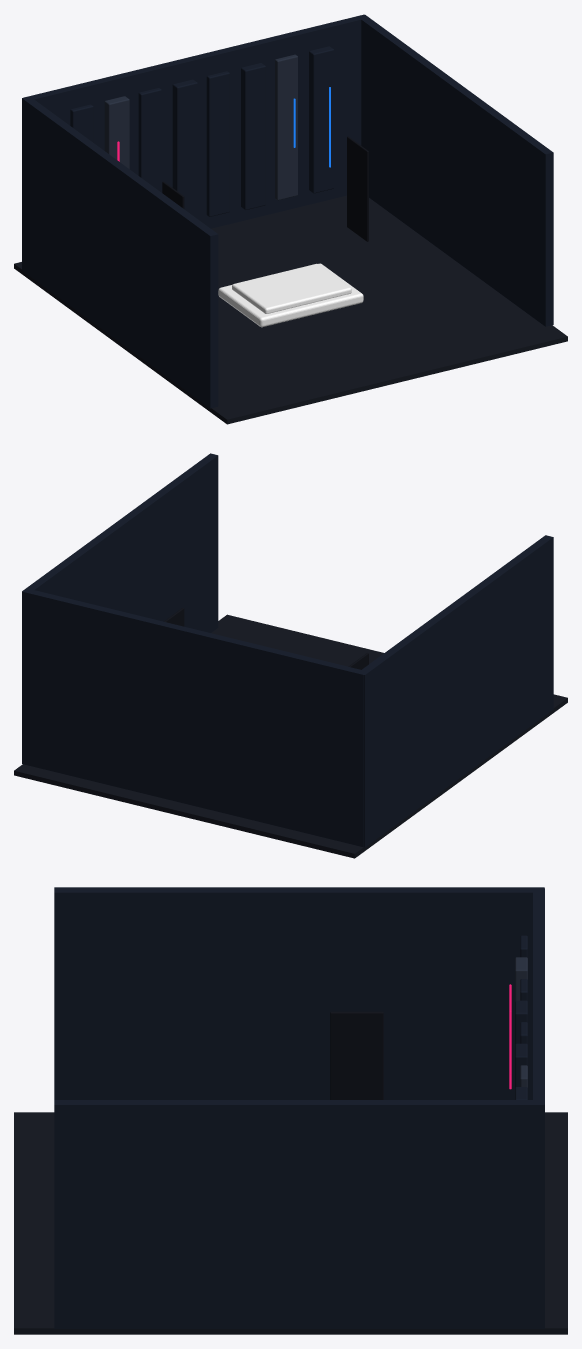
File: dark-neon-v2.glb
3 views of the same model, one above another, from view 1: azimuth 30°, elevation 25°; view 2: azimuth 150°, elevation 25°; view 3: azimuth 270°, elevation 25° (orthographic). The views are drawn at different scales.
Parts seen in each view (by area): view 1: ARCH_Floor, ARCH_LeftWall, ARCH_RightWall, ARCH_BackWall, ARCH_Rib_05, STAGE_Upper, ARCH_Rib_07, ARCH_Rib_04, ARCH_Rib_06, ARCH_Rib_03, ARCH_Rib_02, STAGE_Lower (+3 smaller); view 2: ARCH_BackWall, ARCH_LeftWall, ARCH_RightWall, ARCH_Floor; view 3: ARCH_RightWall, ARCH_LeftWall, ARCH_Floor, PROP_Flag_L, ARCH_BackWall.
Boxes of the visible parts, bbox=[...] form: ARCH_Floor: bbox=[14, 195, 567, 424]; ARCH_LeftWall: bbox=[22, 96, 218, 408]; ARCH_RightWall: bbox=[358, 14, 553, 326]; ARCH_BackWall: bbox=[24, 14, 367, 228]; ARCH_Rib_05: bbox=[241, 63, 265, 209]; STAGE_Upper: bbox=[232, 263, 351, 313]; ARCH_Rib_07: bbox=[309, 46, 333, 193]; ARCH_Rib_04: bbox=[206, 71, 229, 216]; ARCH_Rib_06: bbox=[275, 54, 297, 200]; ARCH_Rib_03: bbox=[172, 79, 197, 218]; ARCH_Rib_02: bbox=[138, 88, 161, 192]; STAGE_Lower: bbox=[218, 263, 363, 327]; ARCH_BackWall: bbox=[23, 589, 367, 847]; ARCH_LeftWall: bbox=[362, 535, 553, 847]; ARCH_RightWall: bbox=[22, 453, 218, 763]; ARCH_Floor: bbox=[14, 614, 567, 858]; ARCH_RightWall: bbox=[54, 1100, 544, 1328]; ARCH_LeftWall: bbox=[54, 887, 544, 1099]; ARCH_Floor: bbox=[14, 1112, 567, 1334]; PROP_Flag_L: bbox=[330, 1011, 383, 1099]; ARCH_BackWall: bbox=[533, 888, 544, 1327].
Size of the model in its own units: 12.08 by 5.96 by 13.
